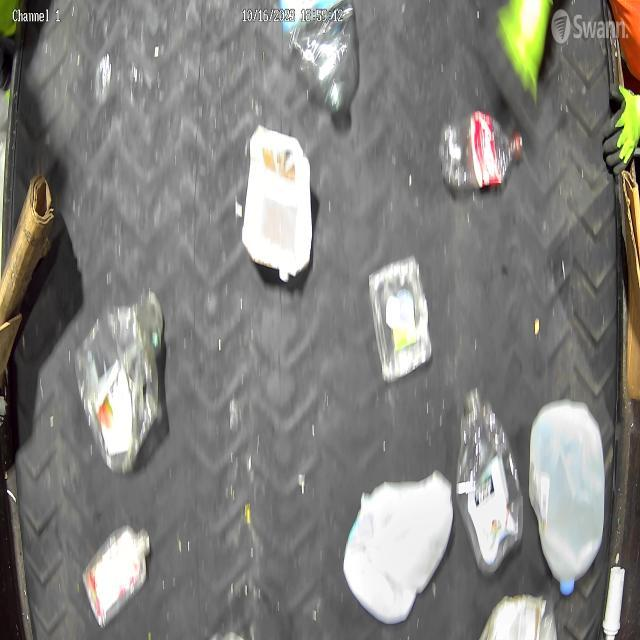milk_jug: (344, 470, 453, 626), (530, 399, 606, 594), (241, 126, 313, 282)
plastic_bottle: (457, 389, 524, 572), (280, 0, 352, 111), (82, 524, 150, 628), (438, 112, 524, 188)
